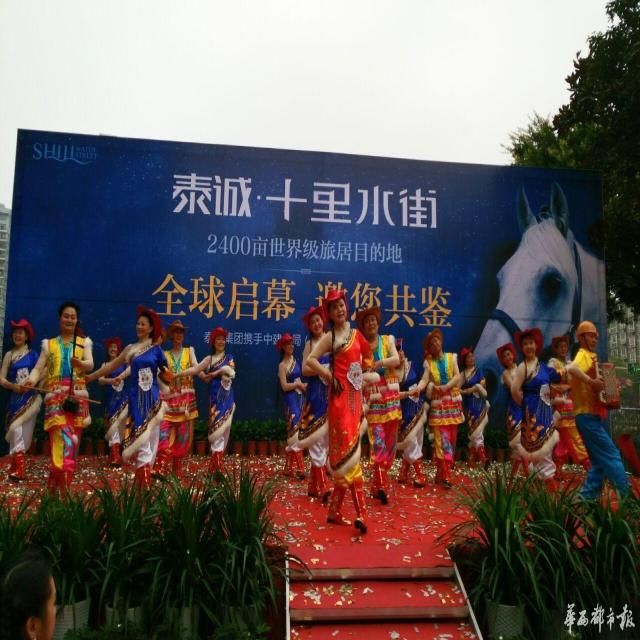non-fight: (305, 287, 378, 523), (83, 307, 164, 500), (15, 300, 91, 504), (564, 320, 640, 513), (507, 324, 564, 489), (172, 327, 236, 469), (414, 328, 464, 491)
